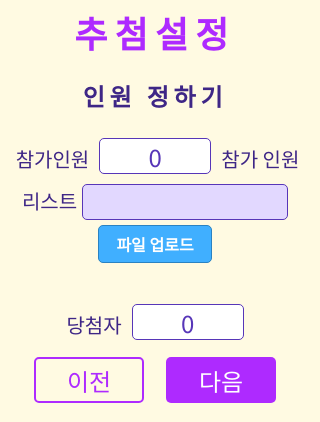
Test case: 당첨자 수만 입력하고 다음 버튼을 눌렀을 경우, 참가자 수 오류메시지 출력하기
The image size is (320, 422).
Type "3" into the number field labelled "당첨자".
click(188, 322); type("3")  # box [132,304,244,340]
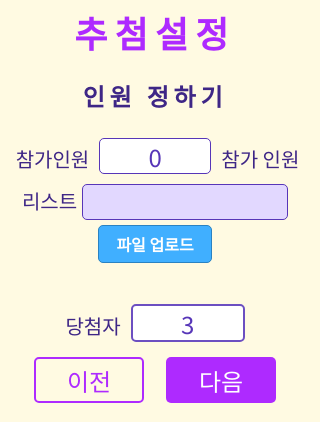
Click the button "다음".
click(221, 380)  # box [166,357,276,403]
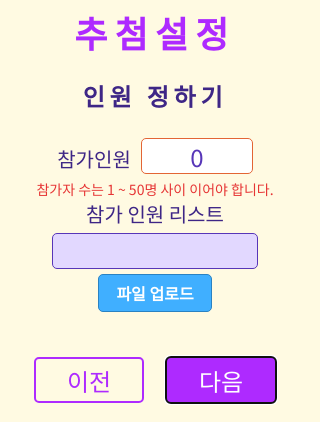
Expected: the text "참가자 수는 1 ~ 50명 사이 이어야 합니다." is shown, [36,179,274,199]
